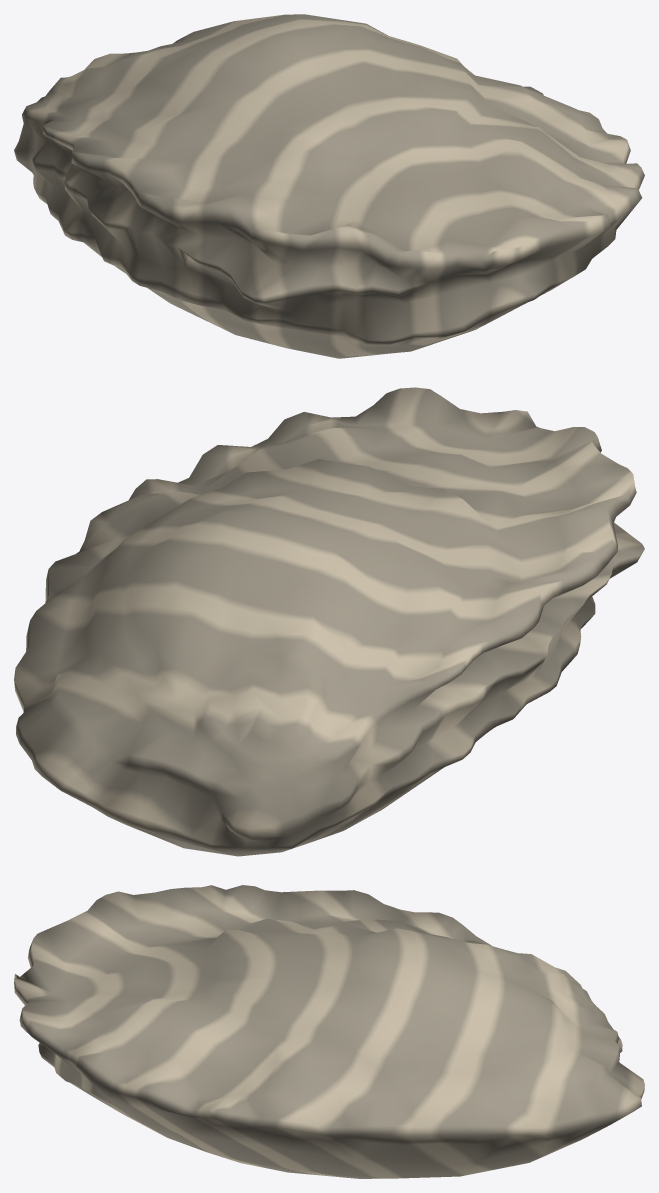
Rendered from shell_oyster.fbx.
The picture shows the model from 3 angles, top to bottom: view 1: azimuth 30°, elevation 25°; view 2: azimuth 150°, elevation 25°; view 3: azimuth 270°, elevation 25°; orthographic projection. The views are drawn at different scales.
Visible parts, largest first — view 1: shell_oyster; view 2: shell_oyster; view 3: shell_oyster.
Boxes of the visible parts, bbox=[...] form: shell_oyster: bbox=[14, 14, 644, 358]; shell_oyster: bbox=[14, 387, 644, 856]; shell_oyster: bbox=[14, 885, 644, 1178].
Size of the model in its own units: 0.1449 by 0.0771 by 0.2.
Materials: 1 (1 with a texture image).
